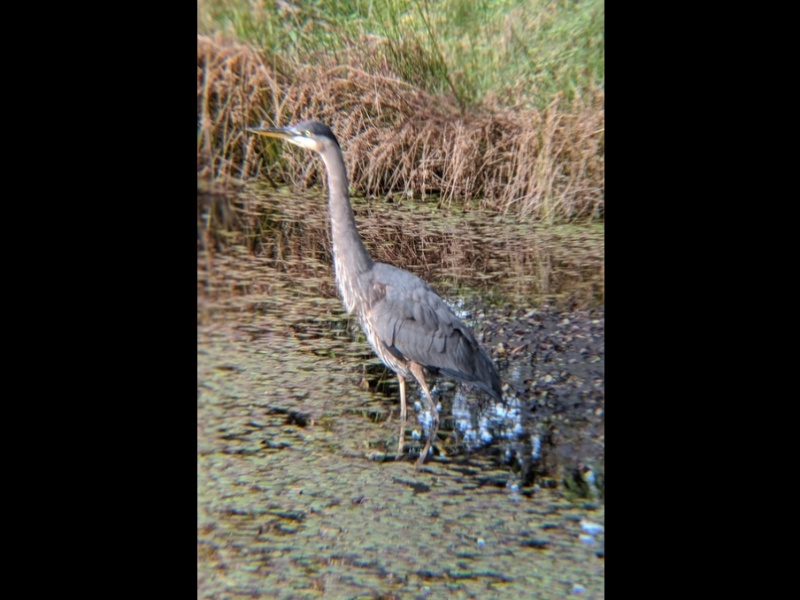heron: (245, 117, 502, 461)
